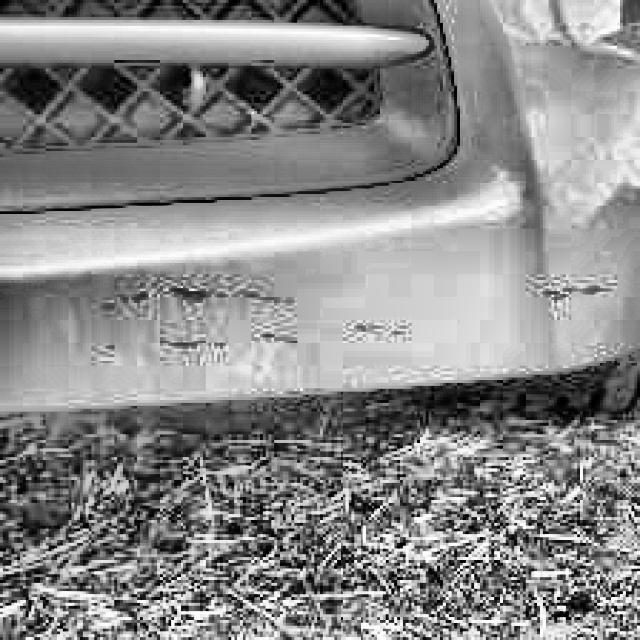bumper_scratch: (105, 277, 412, 361), (539, 279, 607, 314)
